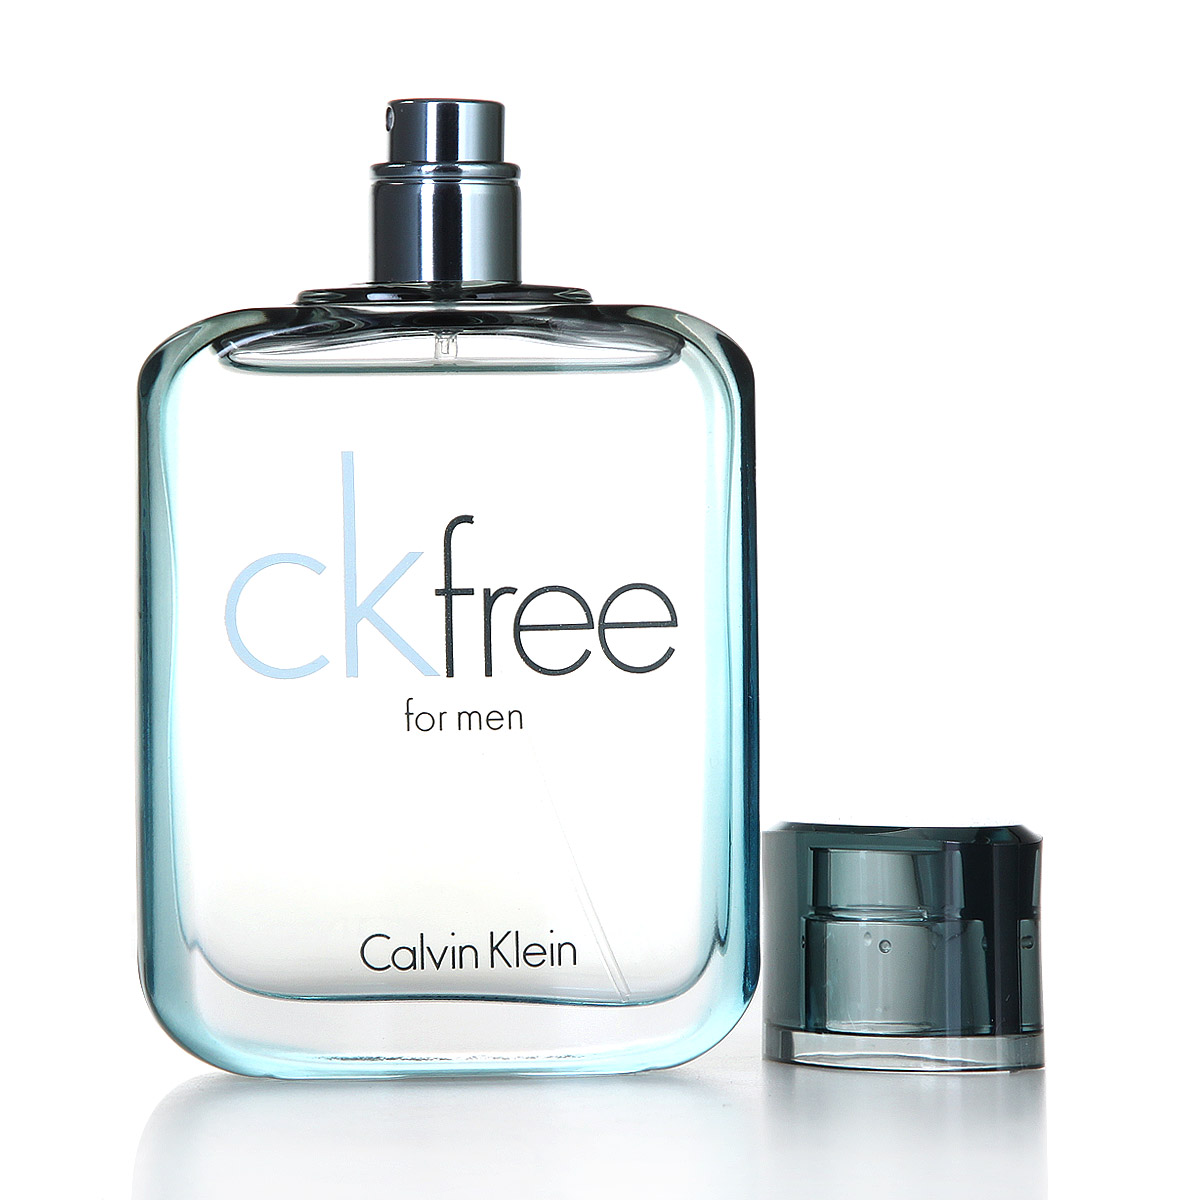Calvin Klein: (208, 437, 442, 684), (346, 915, 597, 981)
